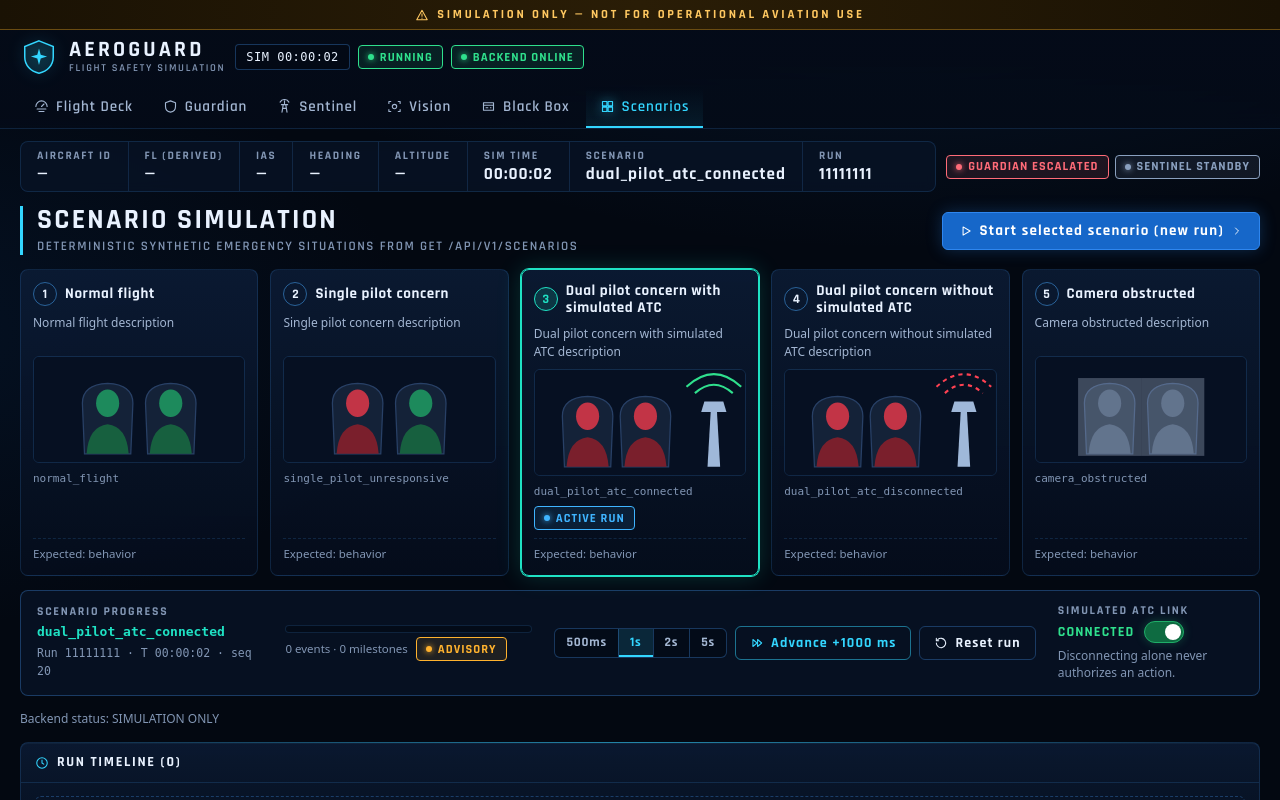
Test: duplicate command responses › does not apply the stale snapshot recorded with a duplicate
Click the button "Advance +1000 ms" at (823, 643), box [735,626,912,660]
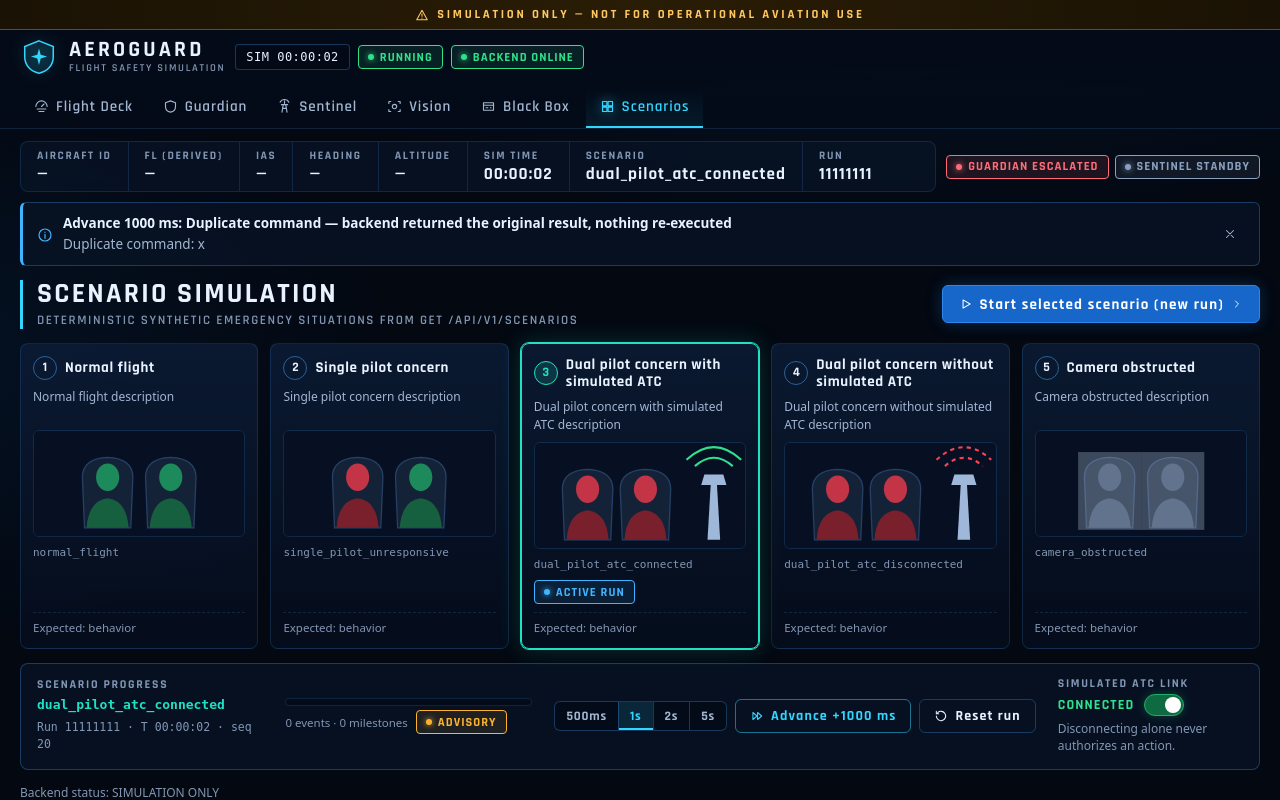
Check: the text "Guardian Escalated" is shown, box [946,155,1108,179]
Check: the text "Duplicate command — backend returned the original result" is shown, box [186,214,732,232]
